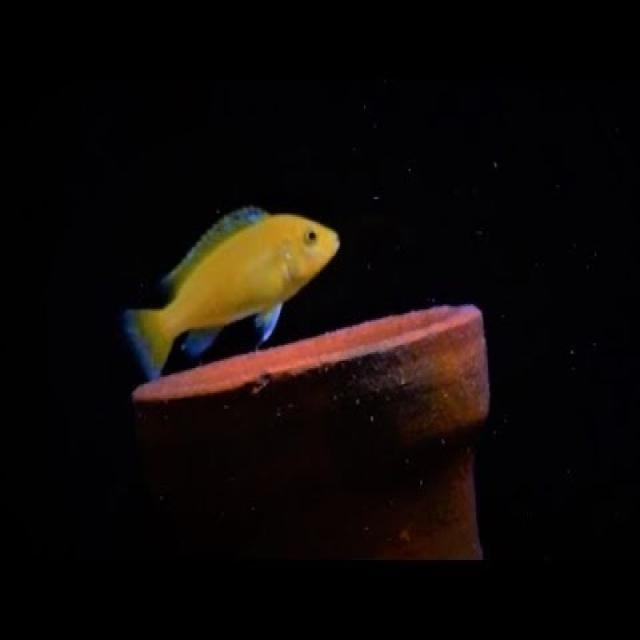YellowCichlid: (109, 207, 345, 384)
